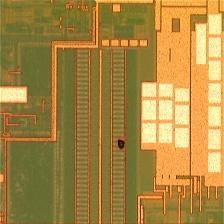PARTICLE: (114, 138, 130, 154)
